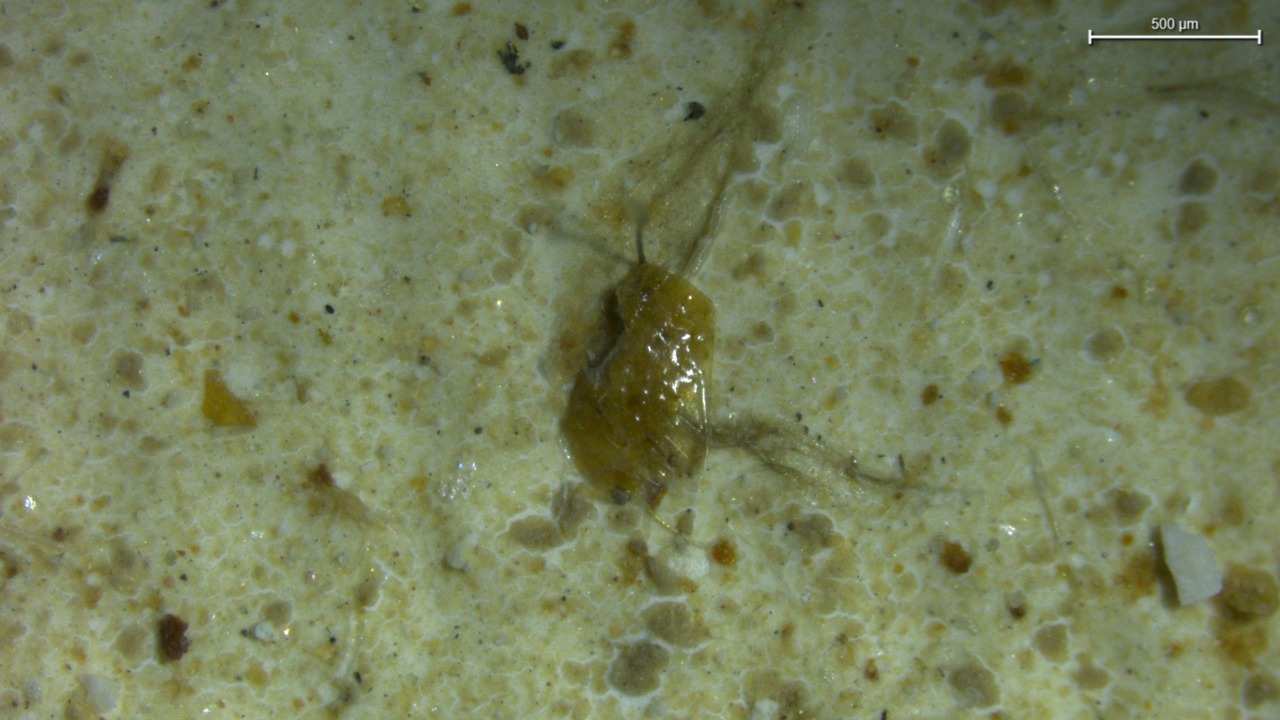microplastic_fragment: (561, 264, 714, 499), (1160, 524, 1223, 606)
